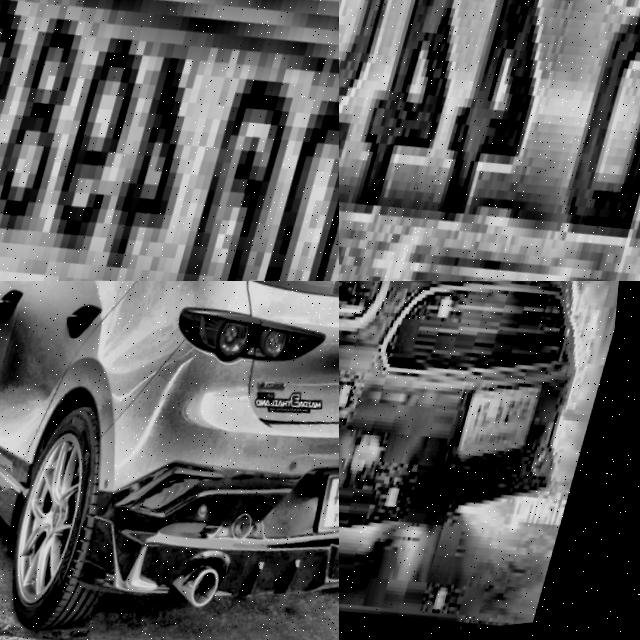license-plate: (0, 0, 339, 281), (339, 0, 640, 281), (461, 383, 551, 483)
